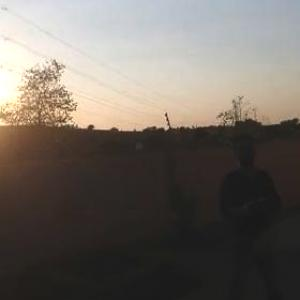follow: (208, 124, 285, 299)
